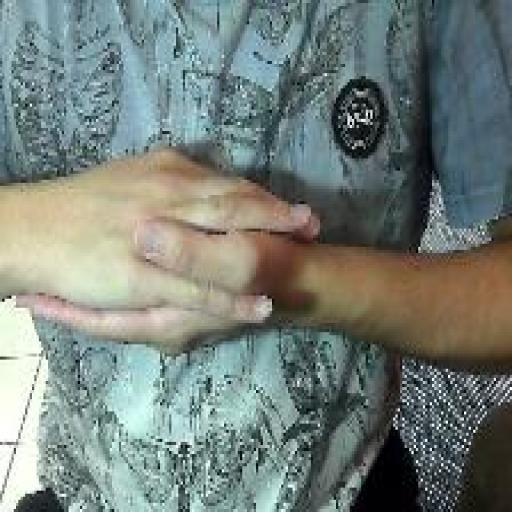Saru -monkey-: (12, 139, 324, 370)
